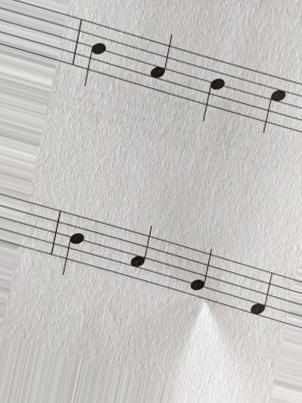note: (58, 210, 89, 279), (198, 56, 228, 127), (80, 19, 108, 93), (146, 31, 175, 102), (256, 70, 286, 136), (127, 225, 155, 292), (249, 261, 277, 328), (189, 246, 214, 311)
